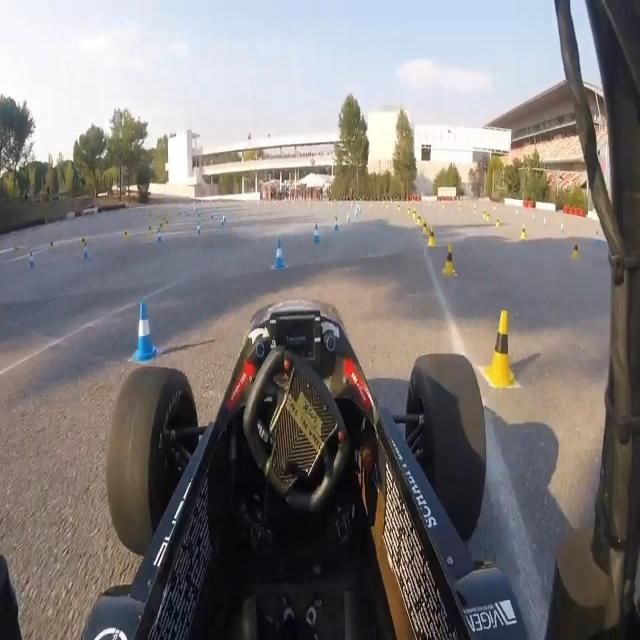blue_cone: (128, 298, 156, 361), (269, 236, 287, 270), (312, 221, 320, 245), (333, 212, 340, 235), (82, 244, 90, 263), (155, 226, 162, 242), (28, 250, 34, 268), (196, 222, 202, 236), (346, 213, 350, 226), (220, 215, 223, 228)
yellow_cone: (484, 310, 516, 392), (444, 241, 455, 277), (427, 224, 436, 250), (571, 242, 580, 261), (520, 224, 527, 242), (423, 218, 427, 236), (417, 213, 422, 226), (124, 228, 128, 242), (413, 208, 418, 218), (496, 216, 500, 227), (483, 207, 486, 219), (487, 212, 490, 222)
